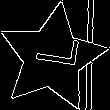L_W: (25, 38, 79, 77)
